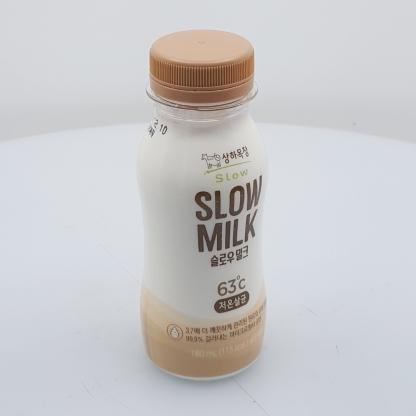----------180ML: (135, 29, 270, 381)
